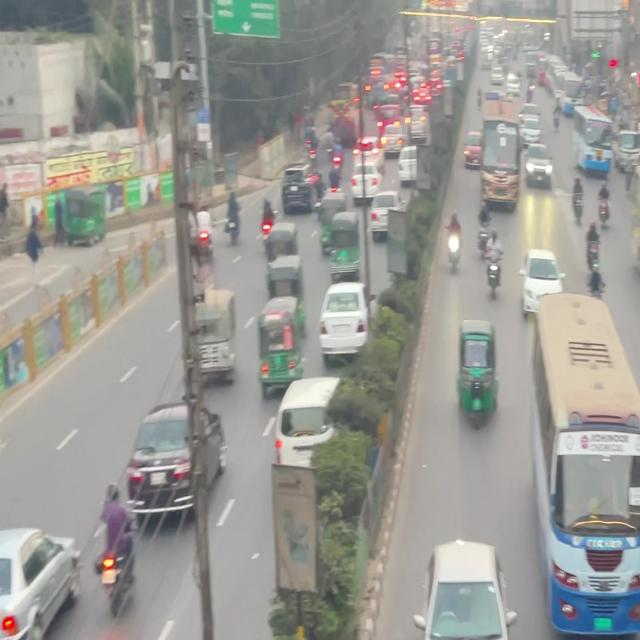bus: (532, 295, 640, 561), (543, 418, 640, 637), (474, 116, 529, 220), (628, 165, 640, 296)
car: (124, 405, 216, 515), (419, 543, 515, 640), (0, 525, 78, 640), (266, 376, 343, 473), (190, 287, 243, 388), (313, 279, 368, 359), (524, 250, 568, 308), (523, 154, 554, 191)
rickshaw: (449, 312, 505, 434), (250, 288, 296, 398)
